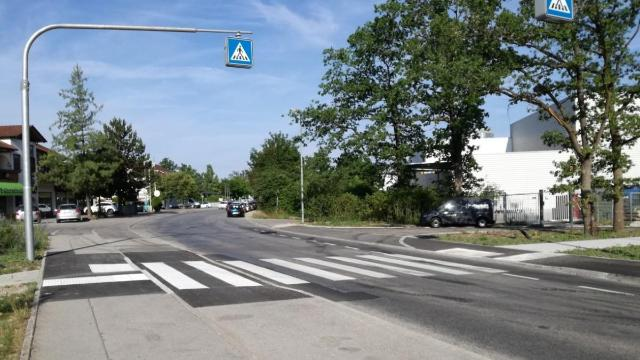crosswalk-sign: (226, 37, 254, 69)
